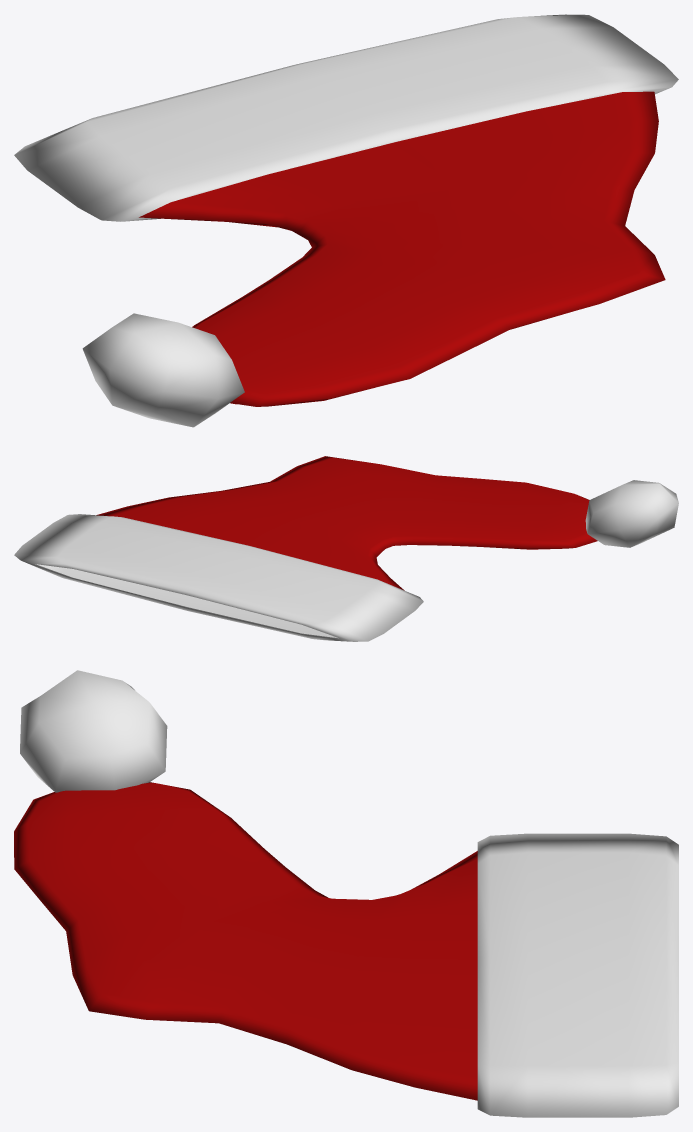
Rendered from santas_hat.fbx.
3 views of the same model, one above another, from view 1: azimuth 30°, elevation 25°; view 2: azimuth 150°, elevation 25°; view 3: azimuth 270°, elevation 25° (orthographic). The views are drawn at different scales.
Parts seen in each view (by area): view 1: pCube4; view 2: pCube4; view 3: pCube4.
Part boxes in pixels (x1=…): pCube4: x1=14, y1=14, x2=678, y2=427; pCube4: x1=14, y1=456, x2=678, y2=641; pCube4: x1=14, y1=670, x2=678, y2=1117.
Bounding box in the file's own units: 1.34 × 0.1685 × 0.9889.
